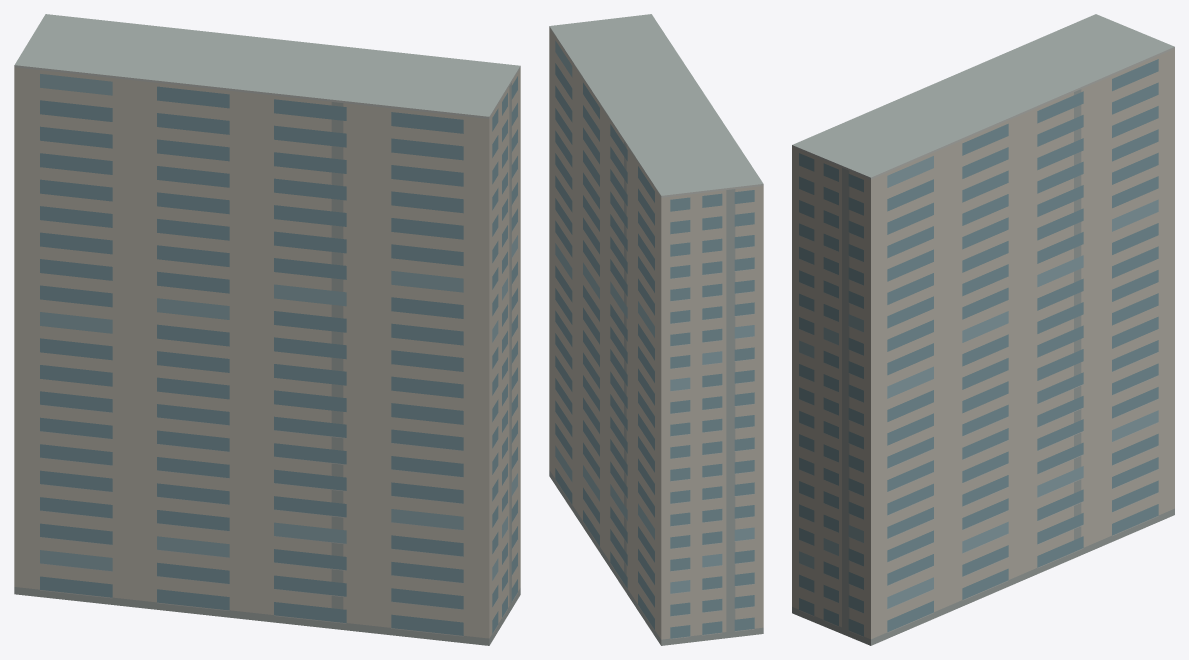
File: residential-9192baa9-c5b7-4539-8b05-7cbc6ed18795.glb
3 views of the same model, side by side, from view 1: azimuth 30°, elevation 25°; view 2: azimuth 150°, elevation 25°; view 3: azimuth 270°, elevation 25° (orthographic). The views are drawn at different scales.
Visible parts, largest first — view 1: residential-9192baa9-c5b7-4539-8b05-7cbc6ed18795.tmp; view 2: residential-9192baa9-c5b7-4539-8b05-7cbc6ed18795.tmp; view 3: residential-9192baa9-c5b7-4539-8b05-7cbc6ed18795.tmp.
Boxes of the visible parts, bbox=[...] form: residential-9192baa9-c5b7-4539-8b05-7cbc6ed18795.tmp: bbox=[14, 14, 520, 645]; residential-9192baa9-c5b7-4539-8b05-7cbc6ed18795.tmp: bbox=[549, 14, 763, 645]; residential-9192baa9-c5b7-4539-8b05-7cbc6ed18795.tmp: bbox=[792, 14, 1174, 645].
Bounding box in the file's own units: 43.48 × 58 × 42.98.
